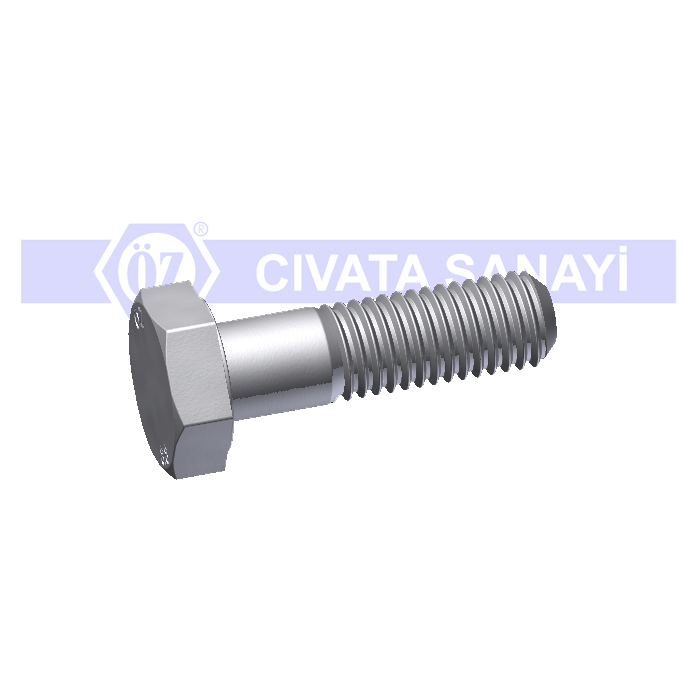screw: (129, 271, 558, 479)
